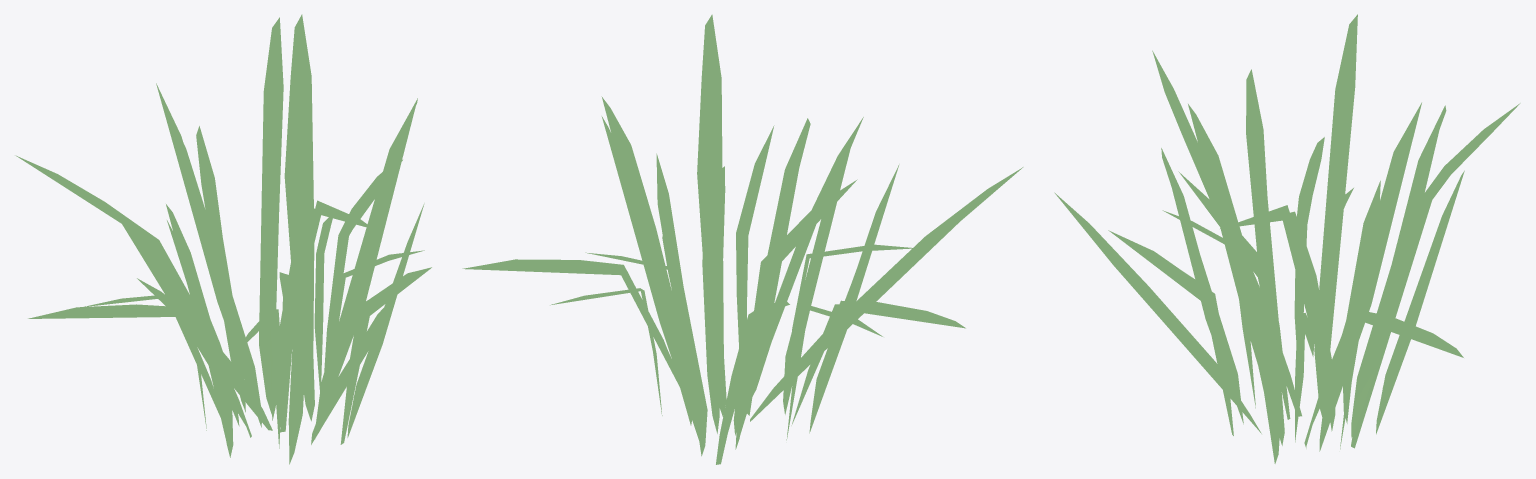
The model's file is prop_grass_b.glb.
The picture shows the model from 3 angles, left to right: view 1: azimuth 30°, elevation 25°; view 2: azimuth 150°, elevation 25°; view 3: azimuth 270°, elevation 25°; orthographic projection. The views are drawn at different scales.
Parts seen in each view (by area): view 1: SM_Grass_LOD0; view 2: SM_Grass_LOD0; view 3: SM_Grass_LOD0.
Part boxes in pixels (left/top/right/bottom): SM_Grass_LOD0: left=15, top=14, right=431, bottom=464; SM_Grass_LOD0: left=462, top=14, right=1023, bottom=464; SM_Grass_LOD0: left=1054, top=14, right=1520, bottom=463.
Size of what is drawn, in the model's own units: 0.5442 by 0.4419 by 0.4825.
